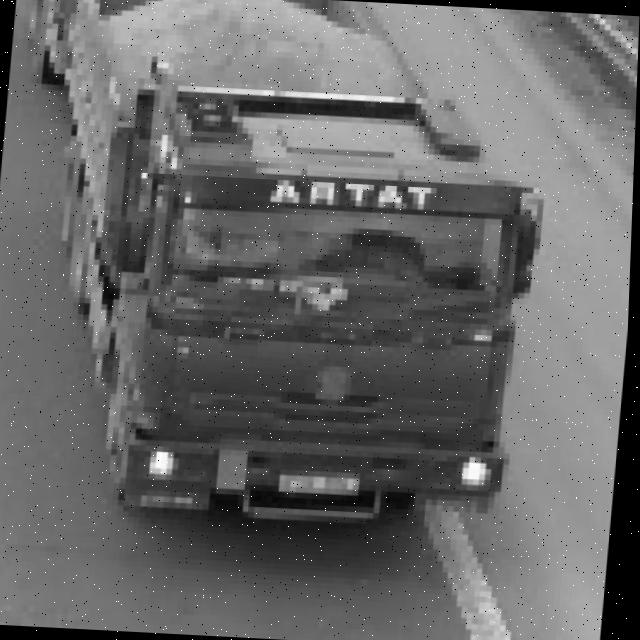truck: (67, 60, 565, 550)
